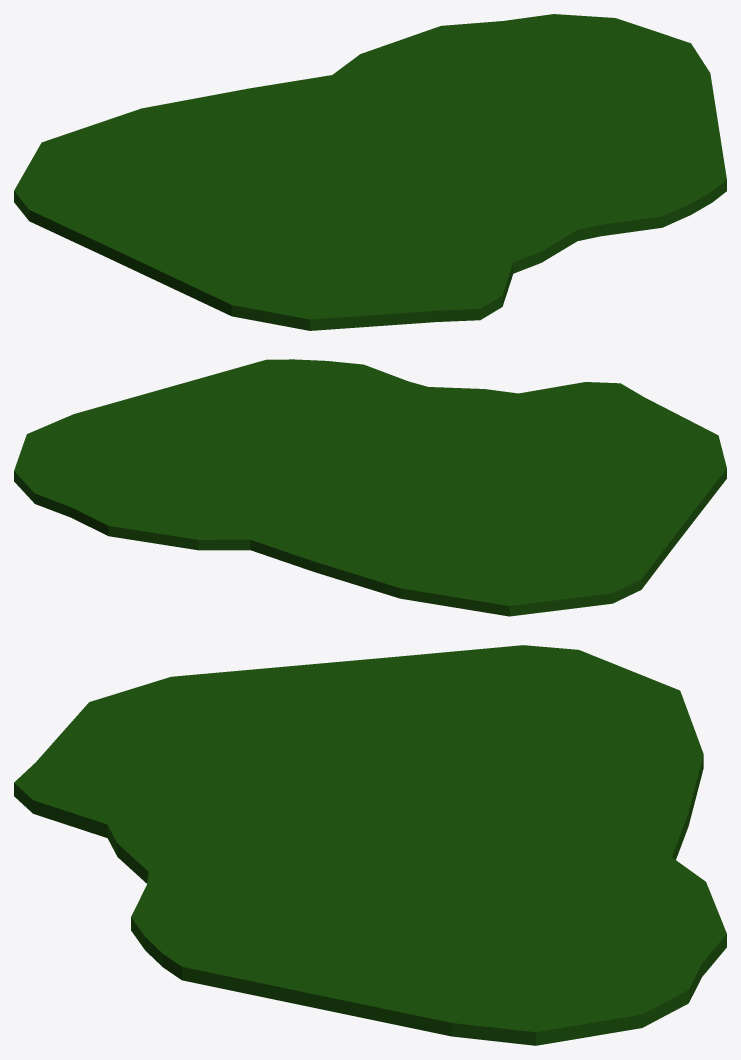
File: Sand 26.FBX
3 views of the same model, one above another, from view 1: azimuth 30°, elevation 25°; view 2: azimuth 150°, elevation 25°; view 3: azimuth 270°, elevation 25° (orthographic). The views are drawn at different scales.
Parts seen in each view (by area): view 1: Plane001; view 2: Plane001; view 3: Plane001.
Boxes of the visible parts, x1,y1,x2,y2 form: Plane001: (14, 14, 726, 330); Plane001: (14, 359, 726, 616); Plane001: (14, 645, 726, 1045).
Bounding box in the file's own units: 133 × 2.18 × 104.
